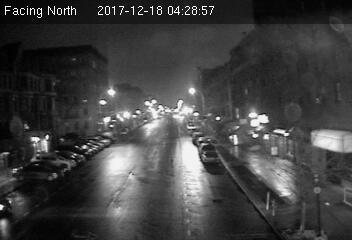car: (200, 150, 218, 164)
